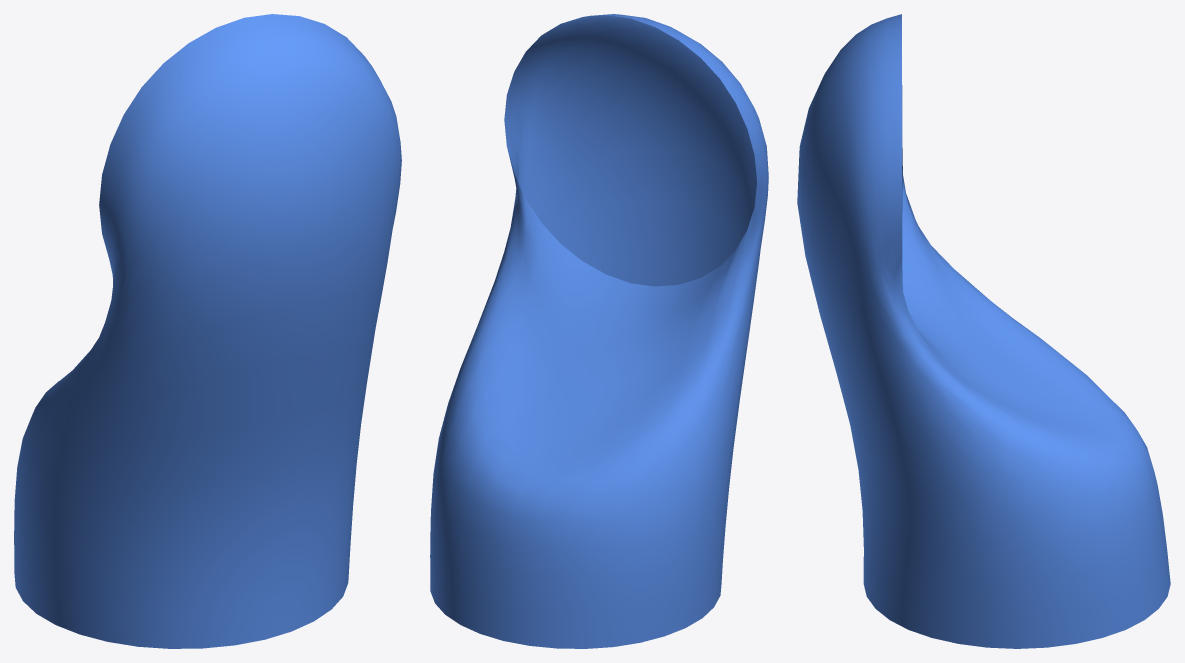
The model's file is arm_segment_last_blue.dae.
3 views of the same model, side by side, from view 1: azimuth 30°, elevation 25°; view 2: azimuth 150°, elevation 25°; view 3: azimuth 270°, elevation 25° (orthographic). The views are drawn at different scales.
Parts seen in each view (by area): view 1: last_segment; view 2: last_segment; view 3: last_segment.
Boxes of the visible parts, x1,y1,x2,y2 form: last_segment: (14, 14, 401, 648); last_segment: (430, 14, 768, 648); last_segment: (797, 14, 1170, 648).
Size of the model in its own units: 0.1253 by 0.1473 by 0.2421.
